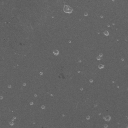corrosion: (61, 4, 74, 14), (103, 113, 112, 122), (51, 48, 61, 56), (95, 53, 104, 61), (96, 63, 105, 70), (103, 29, 110, 37), (37, 70, 45, 77), (84, 114, 92, 121), (120, 56, 127, 63), (83, 11, 89, 18), (88, 77, 94, 83), (29, 100, 35, 106), (6, 83, 12, 89), (78, 86, 84, 92), (40, 104, 45, 111), (21, 82, 28, 87), (98, 14, 104, 19)
